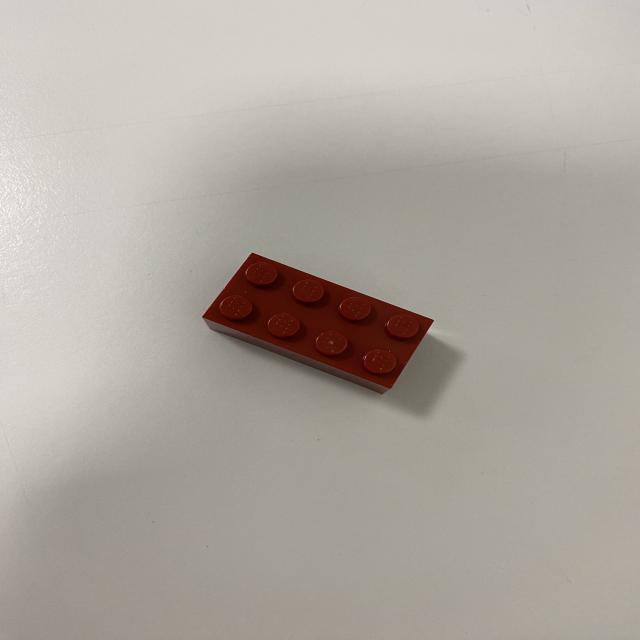C4x2x1: (200, 250, 442, 398)
